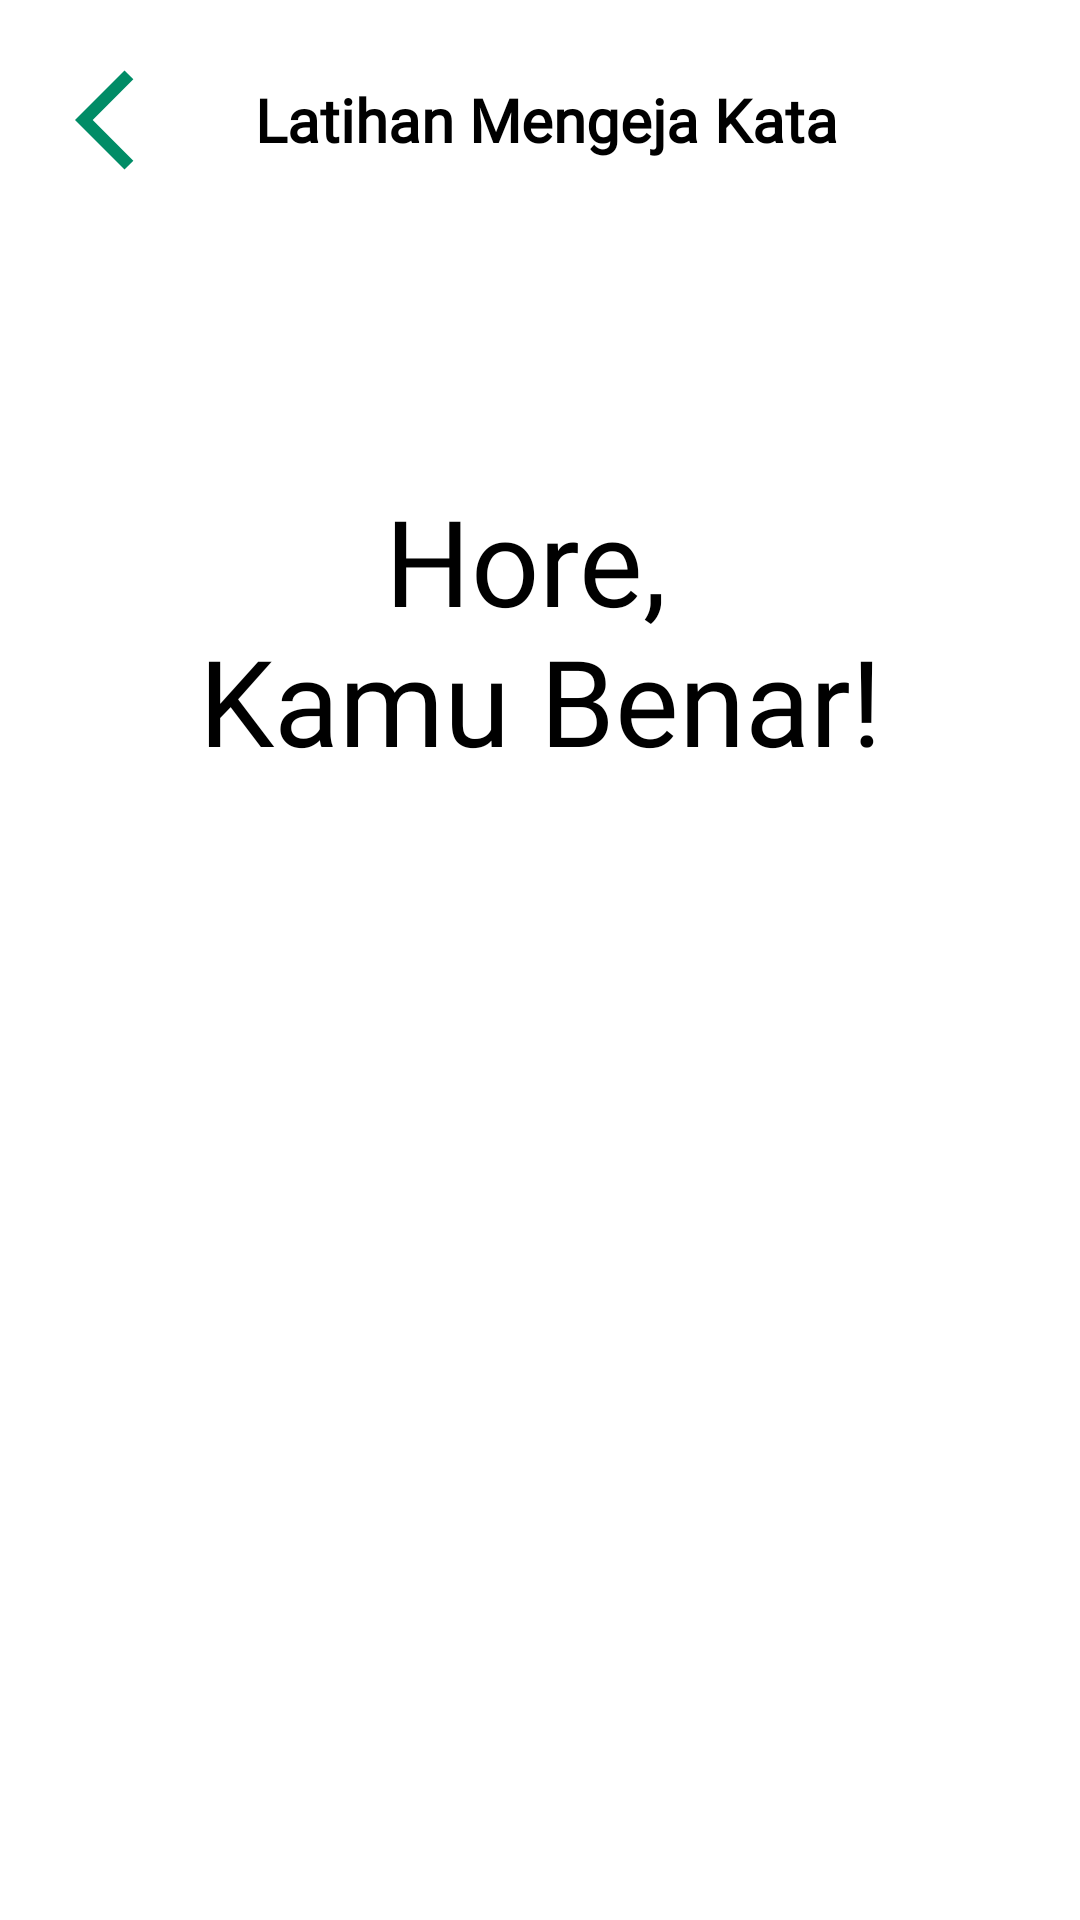

Point at icon controls on the screen. Image size 1080x1920, points as [x,y].
arrow back: [104,120]
